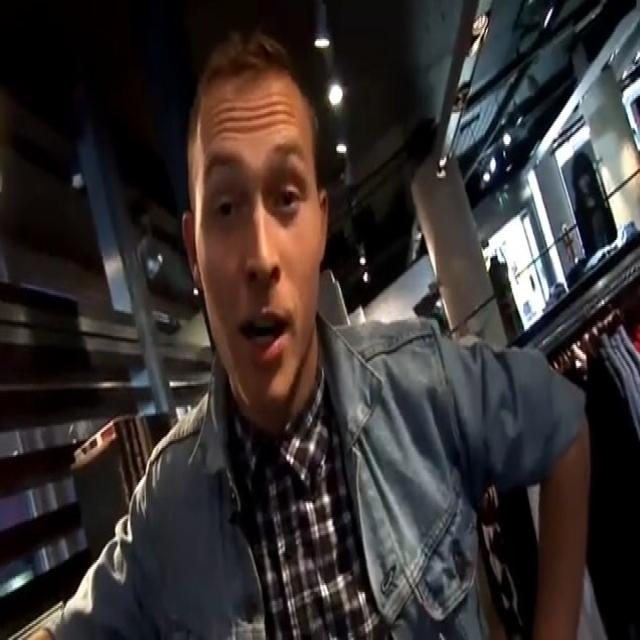Shirt: (221, 349, 390, 640)
